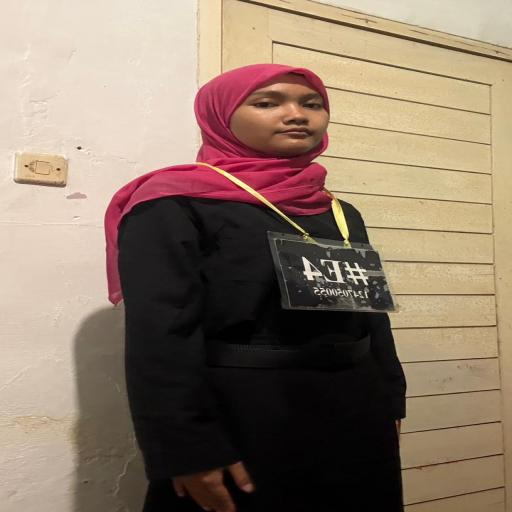kemeja_salah: (106, 200, 398, 342)
kerudung_benar: (117, 56, 366, 215)
nametag_ada: (262, 192, 402, 320)
rok_benar: (168, 374, 402, 512)
sabuk_ada: (197, 337, 379, 374)
